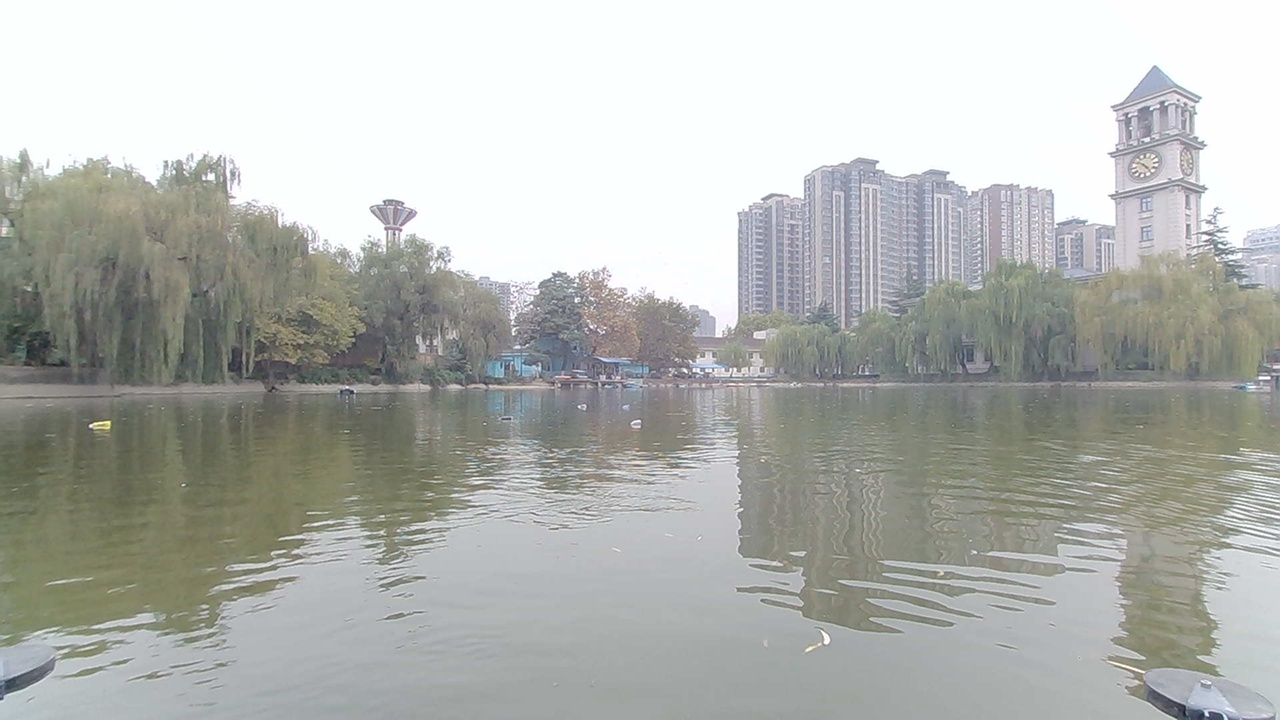bottle: (83, 413, 125, 437), (491, 407, 521, 429), (622, 413, 652, 434), (613, 400, 646, 417), (573, 397, 595, 416)
